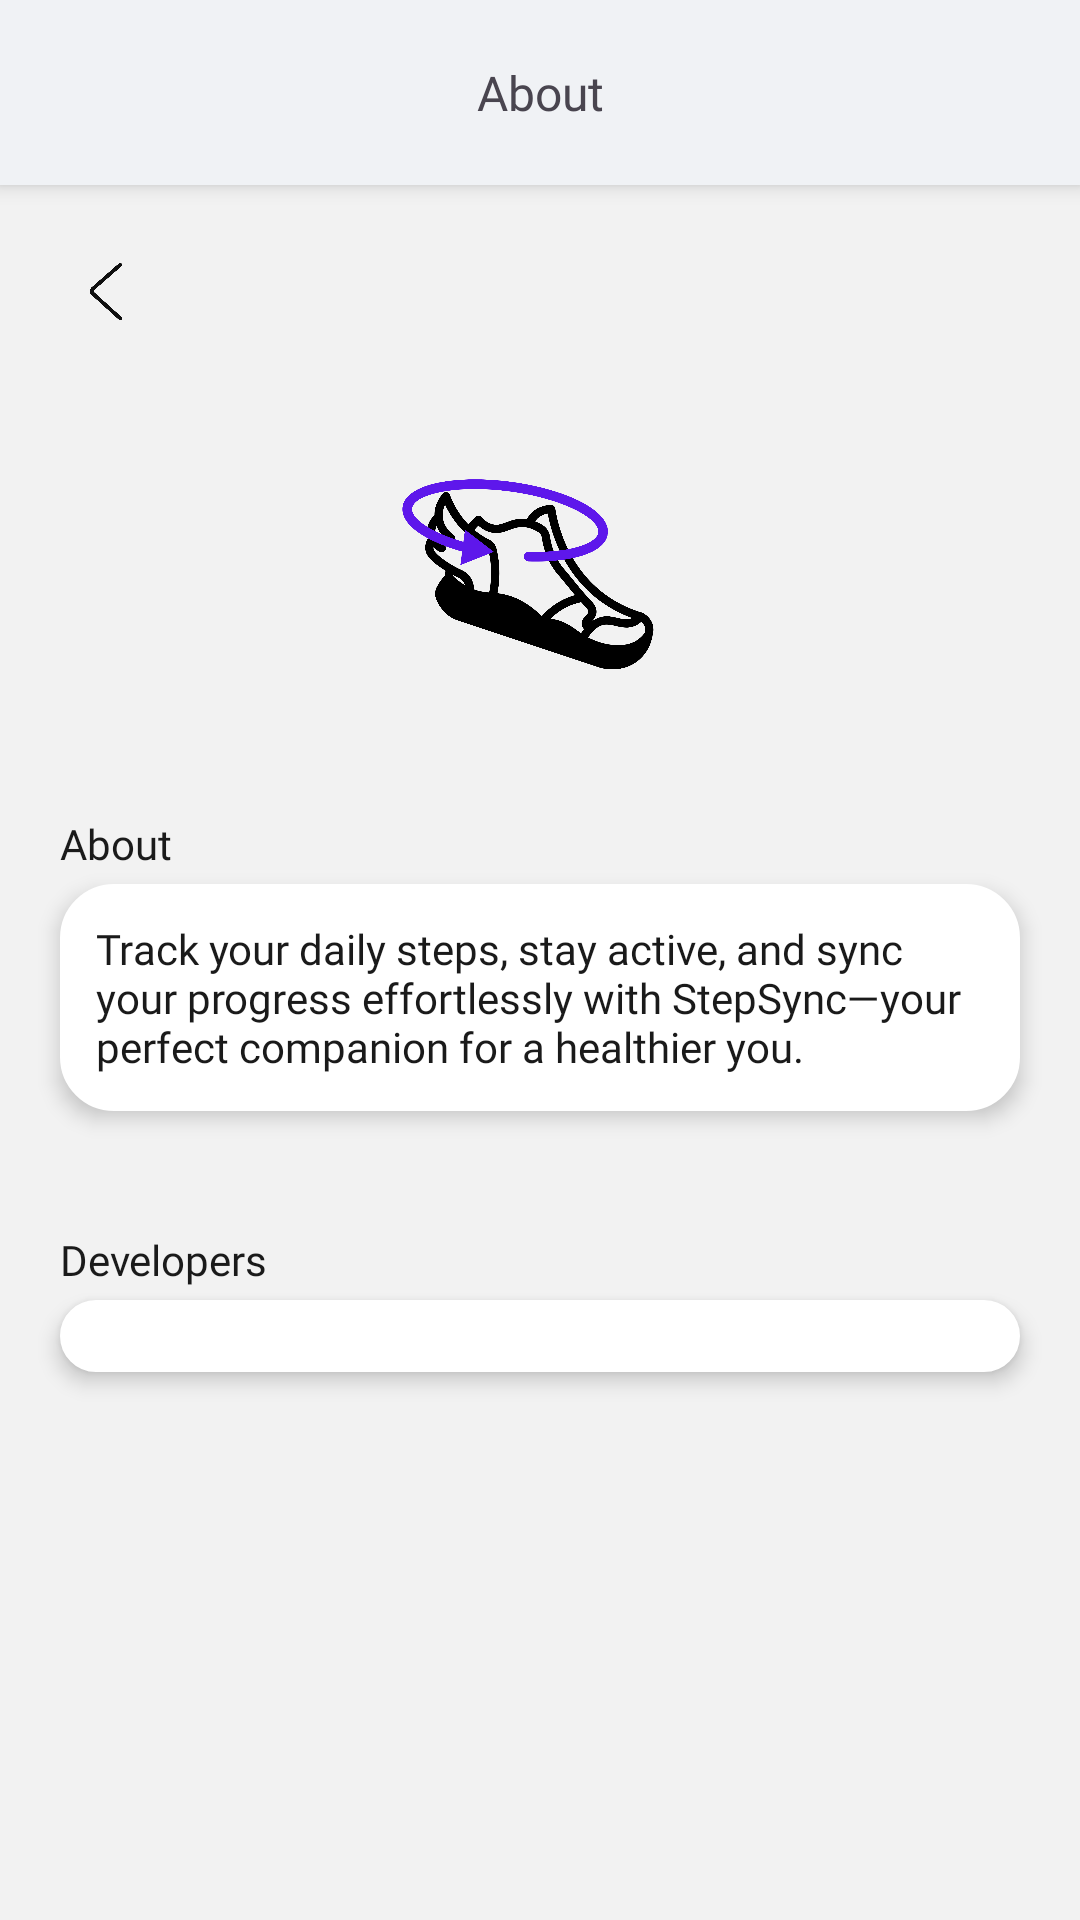

Icon bounding boxes for this 1080x1920 phone screenshot, format (x1, y1, x2, y2):
back: (90, 263, 122, 320)
stepsync: (402, 479, 654, 669)
